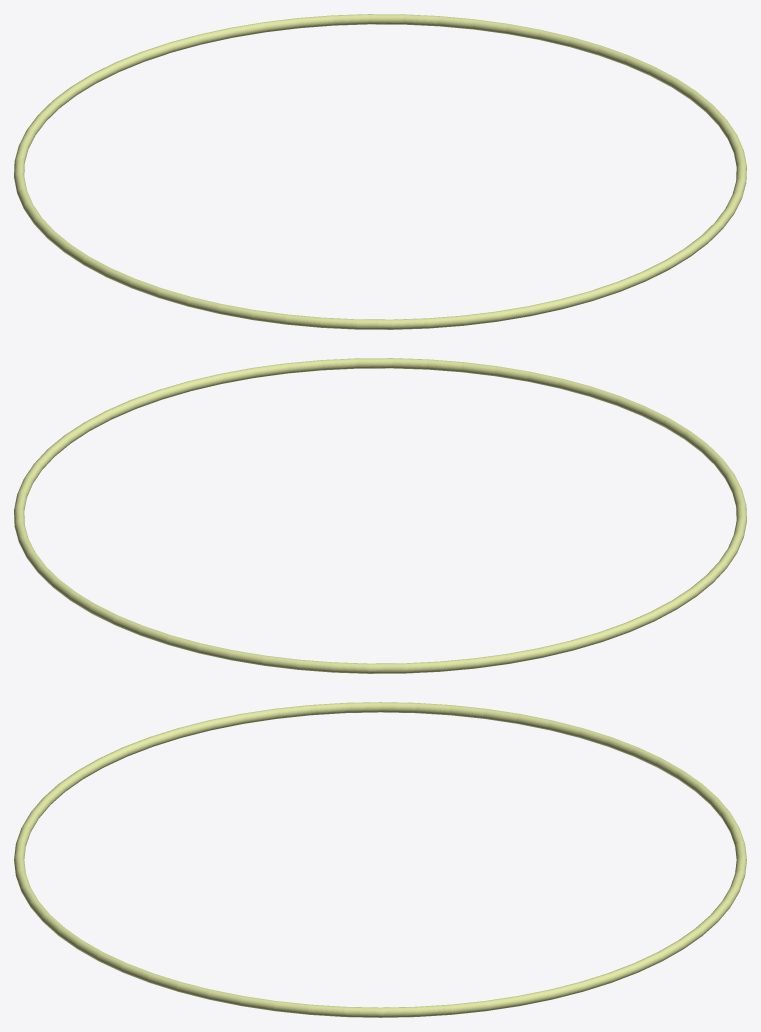
The model's file is Ring2.fbx.
3 views of the same model, one above another, from view 1: azimuth 30°, elevation 25°; view 2: azimuth 150°, elevation 25°; view 3: azimuth 270°, elevation 25° (orthographic).
Visible parts, largest first — view 1: Ring2; view 2: Ring2; view 3: Ring2.
Boxes of the visible parts, x1,y1,x2,y2 form: Ring2: (14, 14, 746, 329); Ring2: (14, 358, 746, 673); Ring2: (14, 702, 746, 1017).
Bounding box in the file's own units: 7100 × 100 × 7100.
